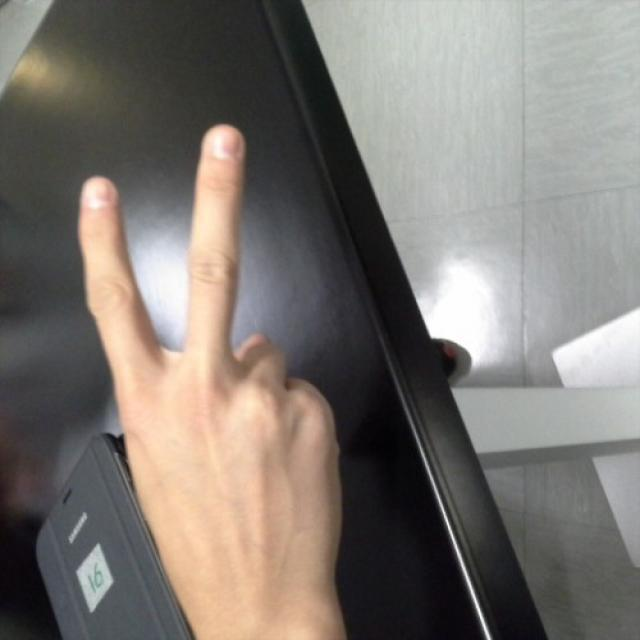scissors: (79, 123, 347, 592)
